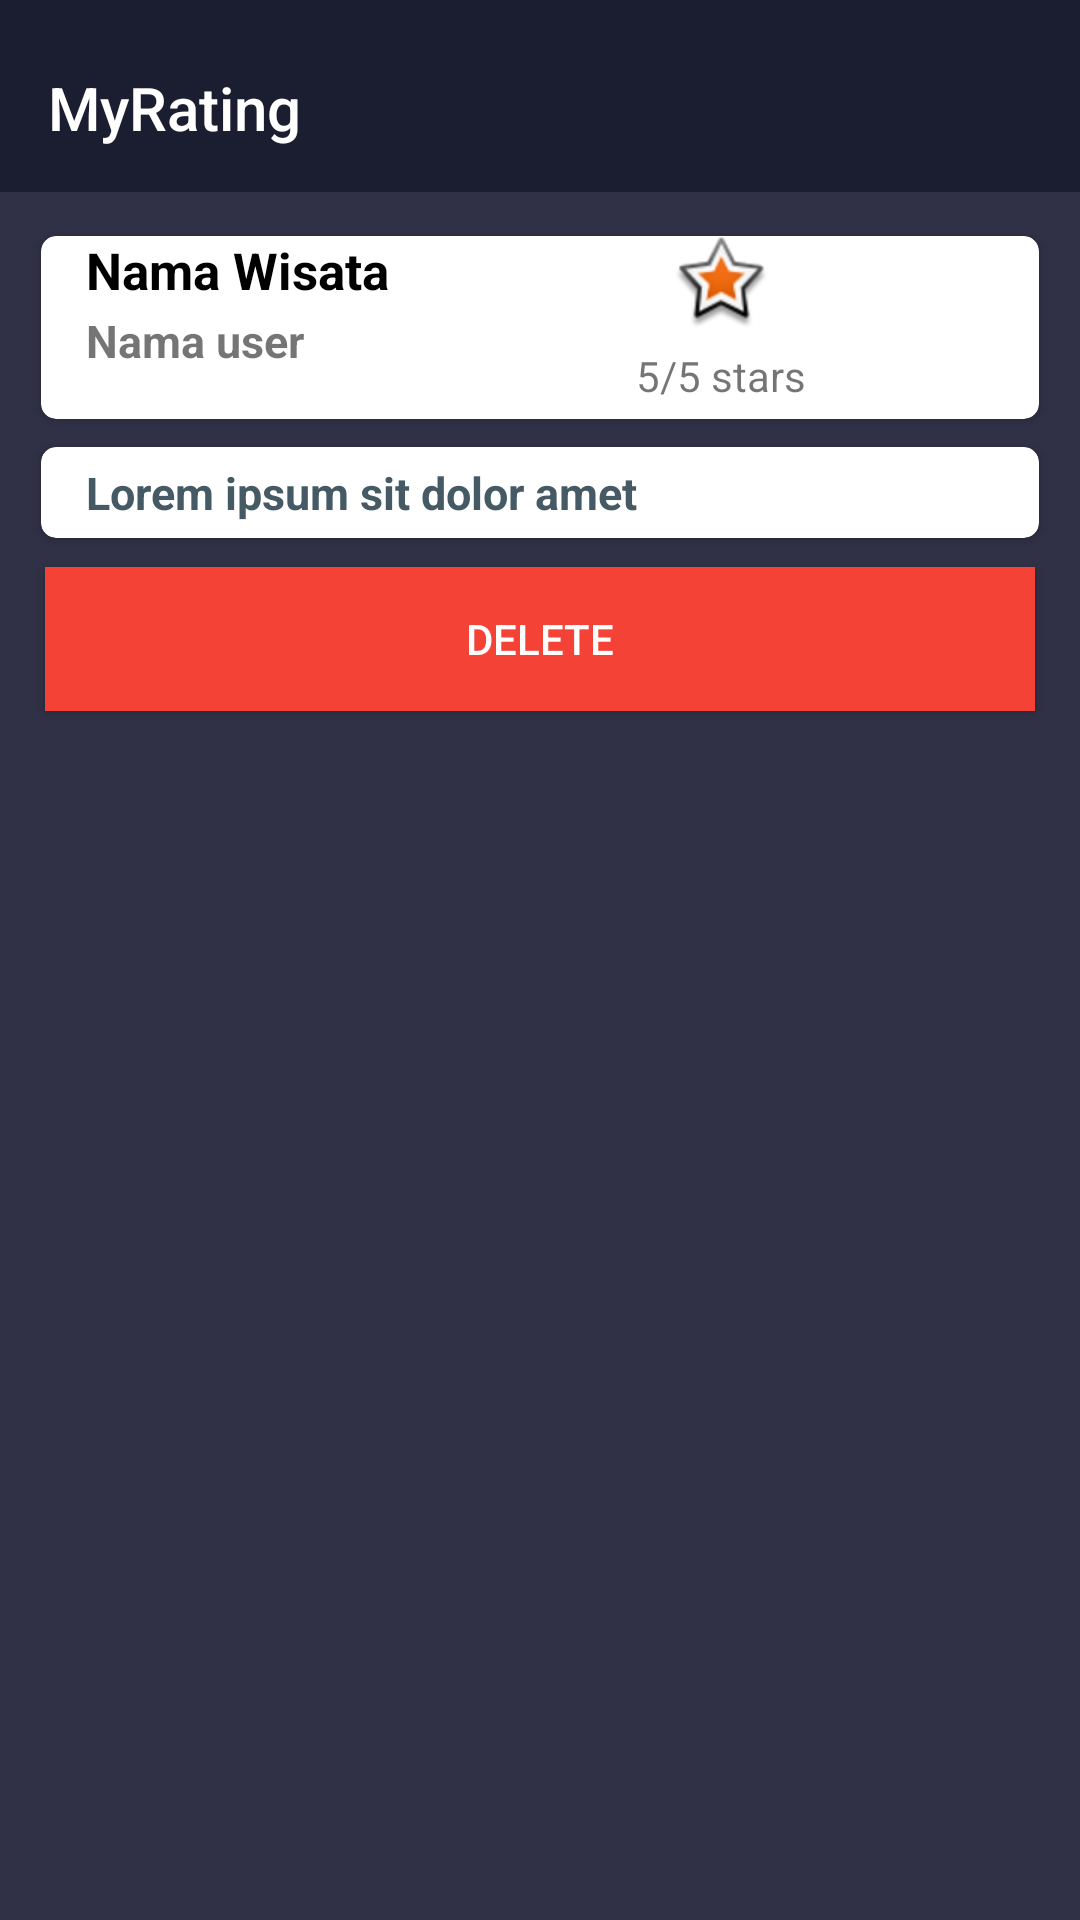

Where icons sit on this 1080w x 1920h app screen, as [x1,y1,x2,y2]:
star on: [679,237,764,324]
